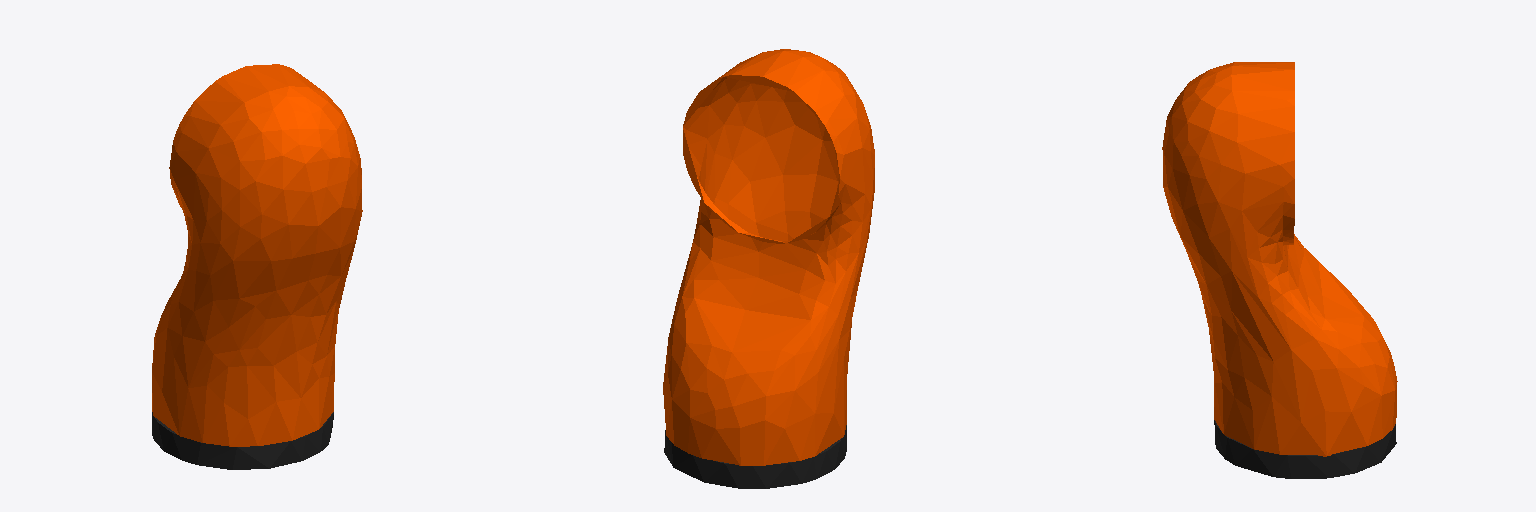
The model's file is kuka4.obj.
The picture shows the model from 3 angles: view 1: azimuth 30°, elevation 25°; view 2: azimuth 150°, elevation 25°; view 3: azimuth 270°, elevation 25°; orthographic projection.
Visible parts, largest first — view 1: unnamed_object1; view 2: unnamed_object1; view 3: unnamed_object1.
Part boxes in pixels (left/top/right/bottom): unnamed_object1: left=152, top=64, right=362, bottom=469; unnamed_object1: left=663, top=49, right=874, bottom=488; unnamed_object1: left=1162, top=62, right=1397, bottom=478.
Size of the model in its own units: 0.1213 by 0.2686 by 0.1544.